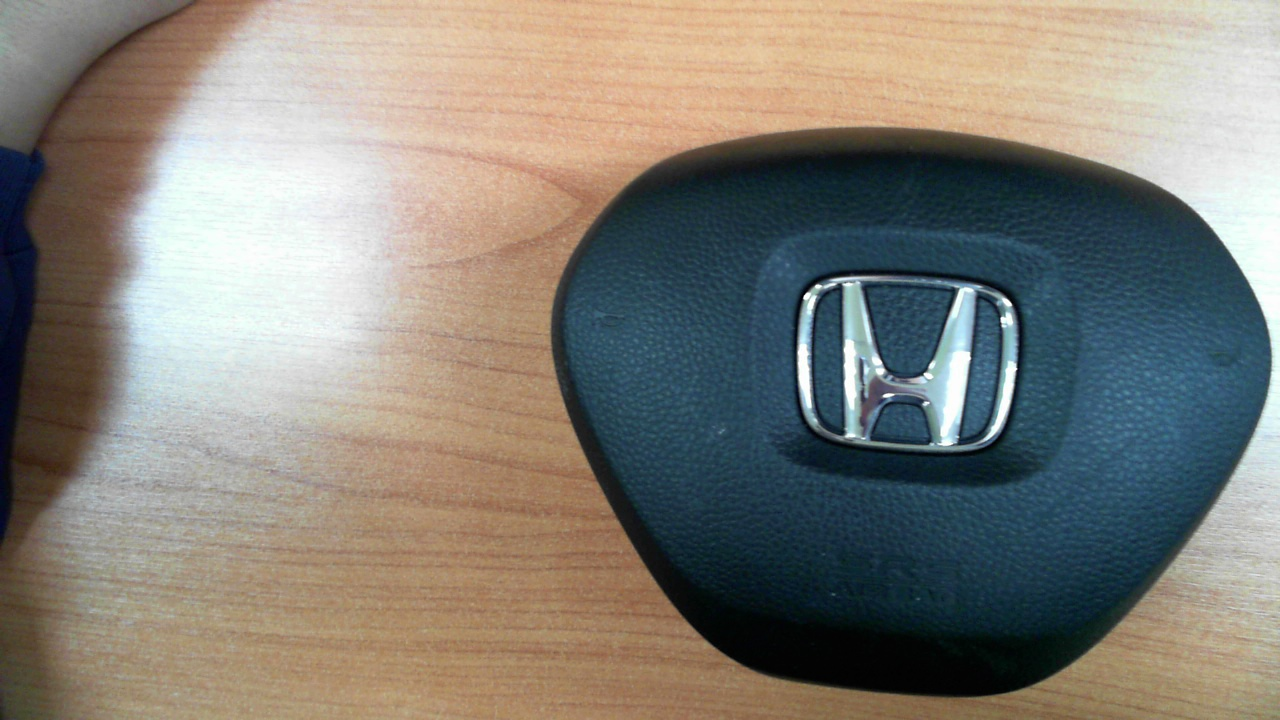Airbag: (552, 129, 1271, 698)
